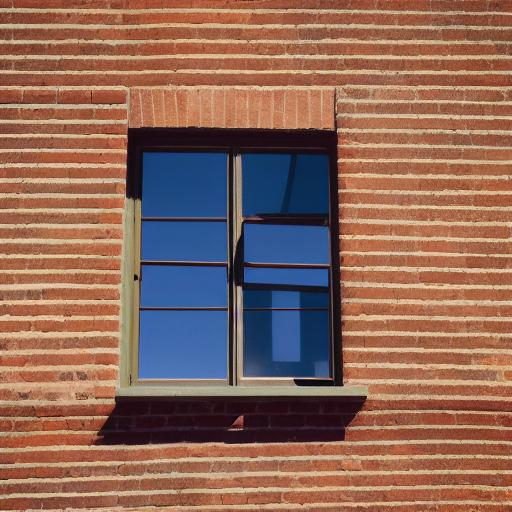Window: (113, 86, 371, 409)
